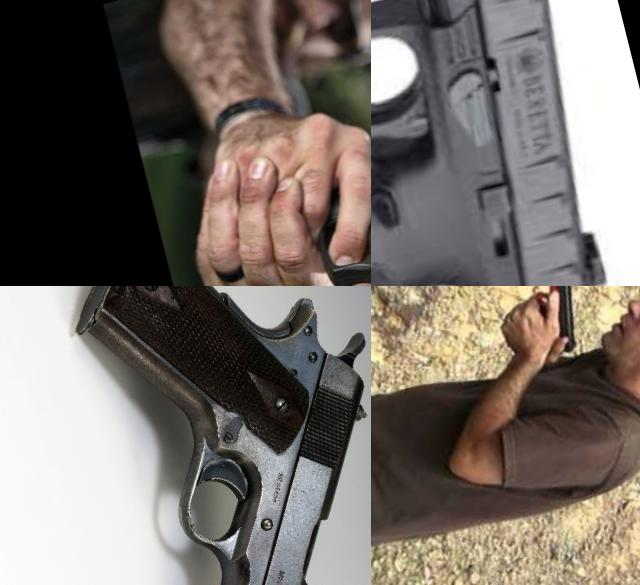handgun: (44, 286, 371, 585), (371, 0, 640, 286), (275, 136, 371, 286), (512, 286, 594, 364)
